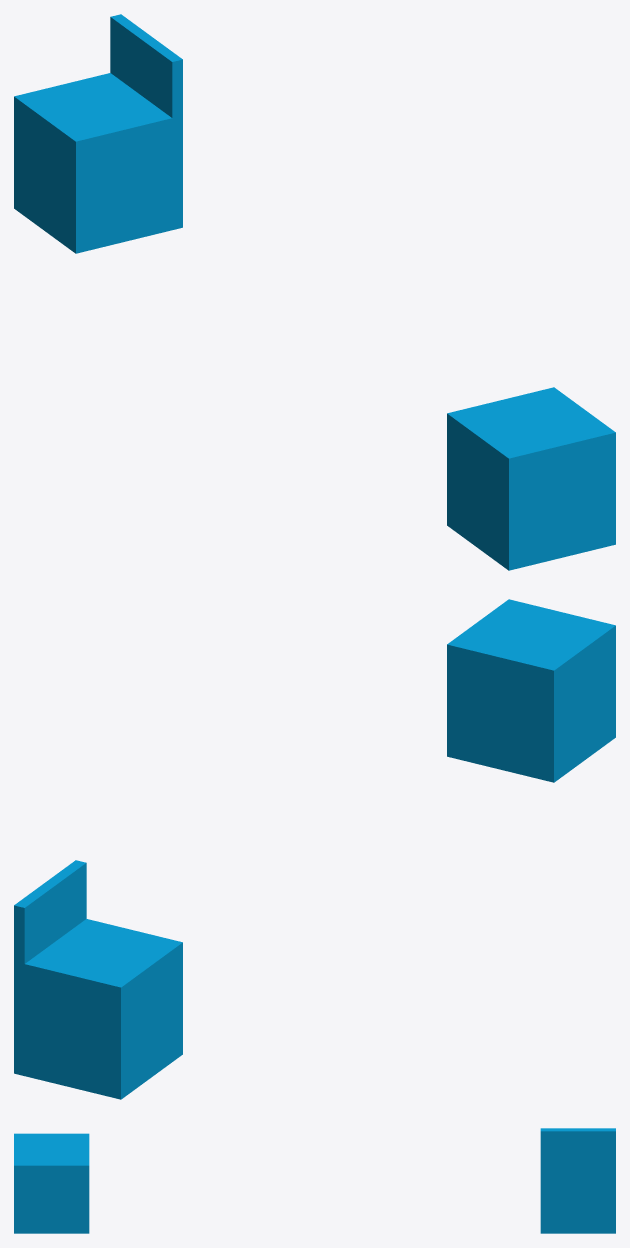
3 renders of one model, top to bottom at view 1: azimuth 30°, elevation 25°; view 2: azimuth 150°, elevation 25°; view 3: azimuth 270°, elevation 25°, orthographic. The views are drawn at different scales.
Visible parts, largest first — view 1: katahou, takasa; view 2: katahou, takasa; view 3: katahou, takasa.
Part boxes in pixels (x1=…): katahou: x1=14, y1=14, x2=182, y2=253; takasa: x1=447, y1=387, x2=615, y2=570; katahou: x1=14, y1=860, x2=182, y2=1099; takasa: x1=447, y1=599, x2=615, y2=782; katahou: x1=540, y1=1128, x2=615, y2=1233; takasa: x1=14, y1=1133, x2=89, y2=1233.
Bounding box in the file's own units: 2000 × 3000 × 16000.
